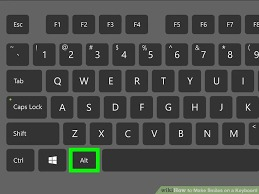keyboard: (4, 6, 259, 178)
